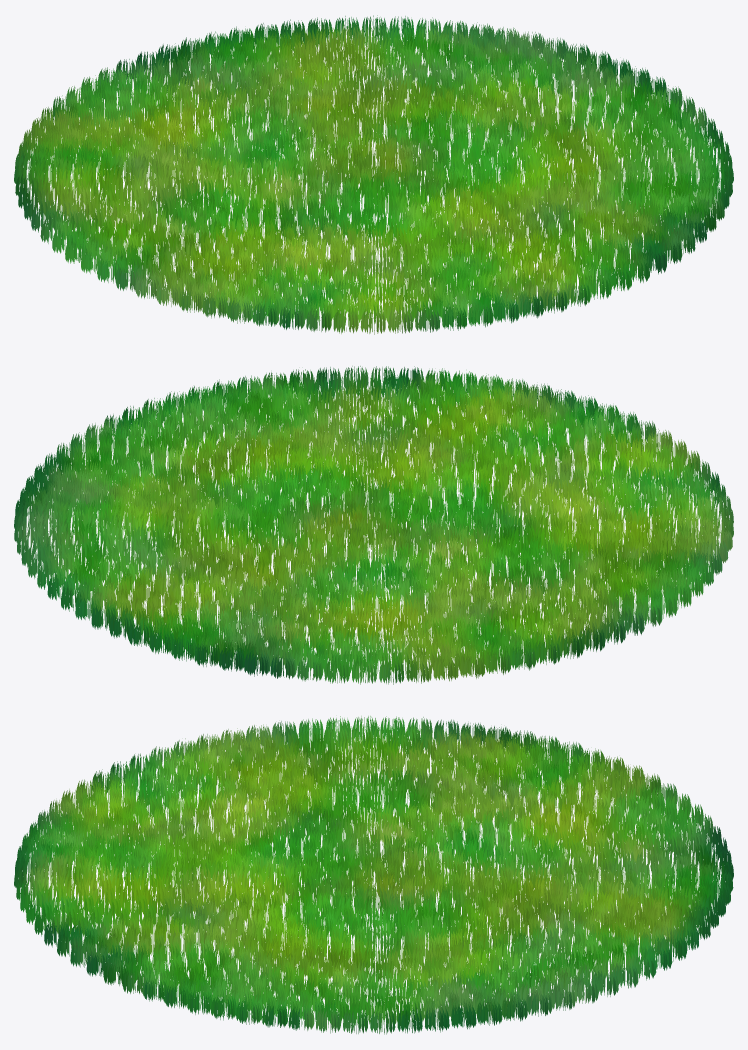
The model's file is grass.glb.
3 views of the same model, one above another, from view 1: azimuth 30°, elevation 25°; view 2: azimuth 150°, elevation 25°; view 3: azimuth 270°, elevation 25° (orthographic).
Parts seen in each view (by area): view 1: Cubo.129_N00_000_Hair_00_HAIR (Instance)_0.001; view 2: Cubo.129_N00_000_Hair_00_HAIR (Instance)_0.001; view 3: Cubo.129_N00_000_Hair_00_HAIR (Instance)_0.001.
Boxes of the visible parts, <box> form: Cubo.129_N00_000_Hair_00_HAIR (Instance)_0.001: <box>14,15,733,334</box>; Cubo.129_N00_000_Hair_00_HAIR (Instance)_0.001: <box>14,366,733,684</box>; Cubo.129_N00_000_Hair_00_HAIR (Instance)_0.001: <box>14,716,733,1034</box>.
Bounding box in the file's own units: 254 × 7.23 × 254.
Materials: 1 (1 with a texture image).
